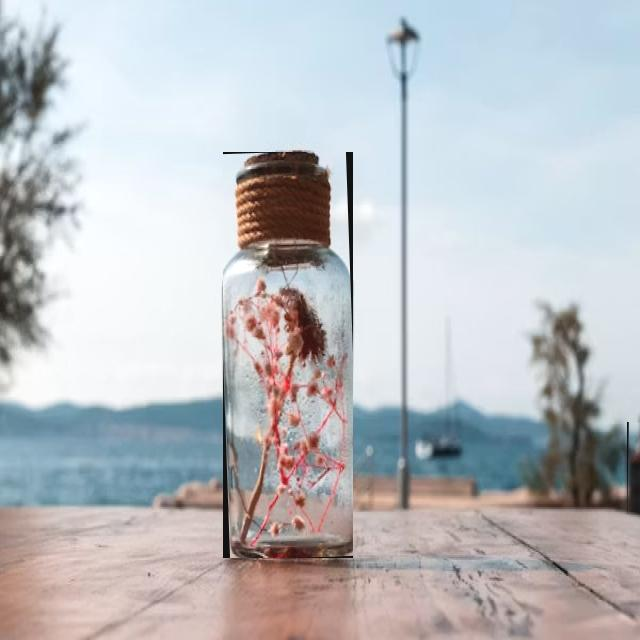Bottle: (223, 152, 353, 558), (628, 423, 639, 513)
